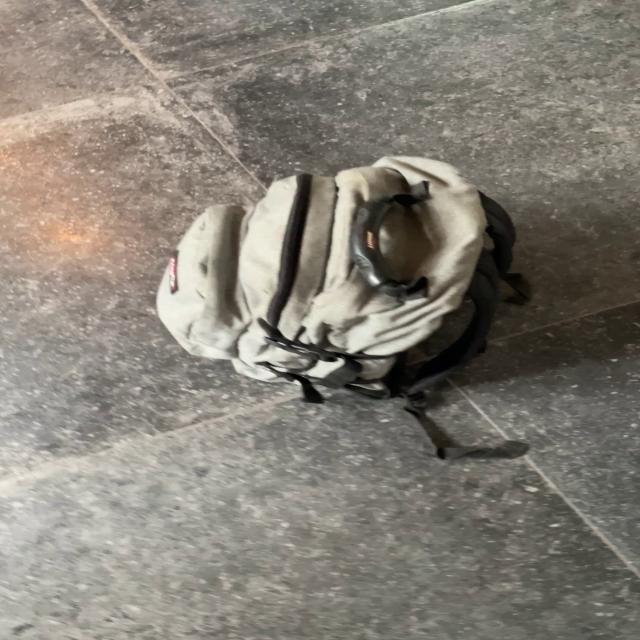backpack: (145, 148, 531, 398)
